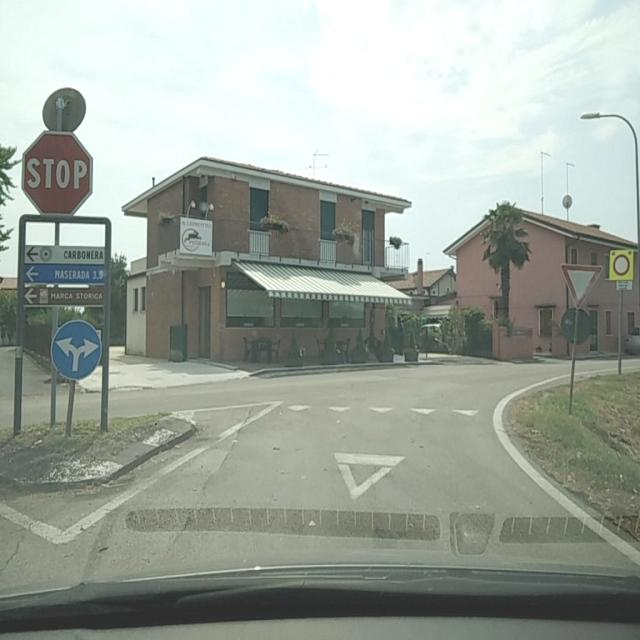car: (625, 325, 640, 356)
